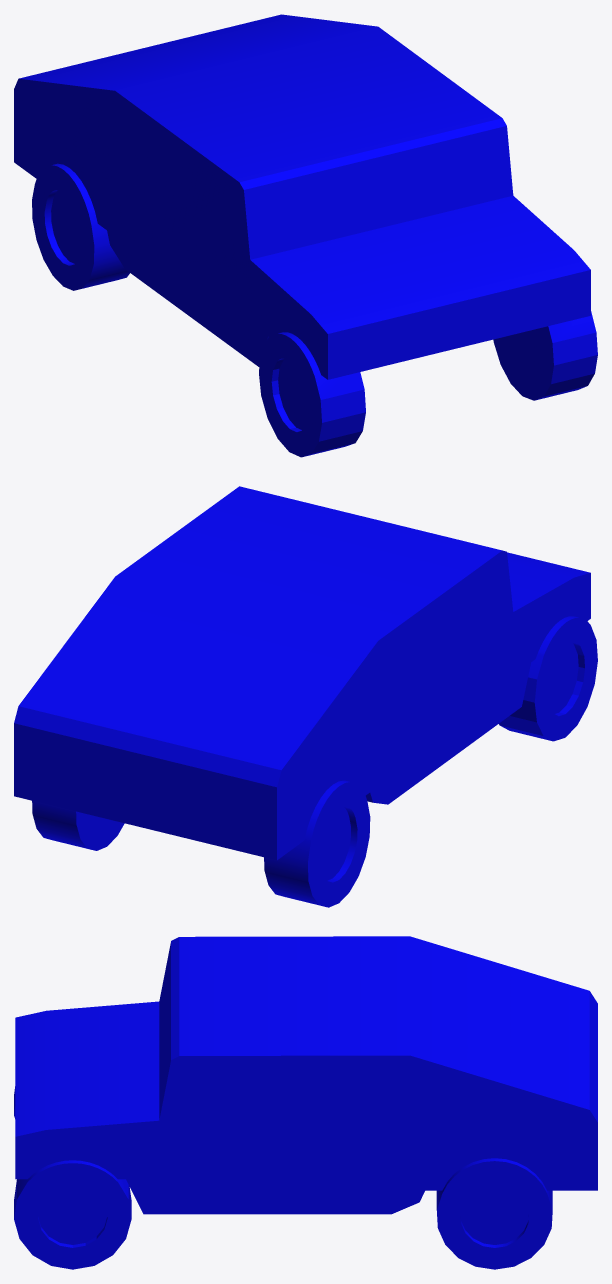
File: Boardgame_Troop_Single_Token_Blue_01.fbx
The picture shows the model from 3 angles, top to bottom: view 1: azimuth 30°, elevation 25°; view 2: azimuth 150°, elevation 25°; view 3: azimuth 270°, elevation 25°; orthographic projection. The views are drawn at different scales.
Visible parts, largest first — view 1: Model; view 2: Model; view 3: Model.
Part boxes in pixels (left/top/right/bottom): Model: left=14, top=14, right=597, bottom=457; Model: left=14, top=486, right=597, bottom=907; Model: left=14, top=936, right=597, bottom=1269.
Size of the model in its own units: 136 by 107 by 269.
